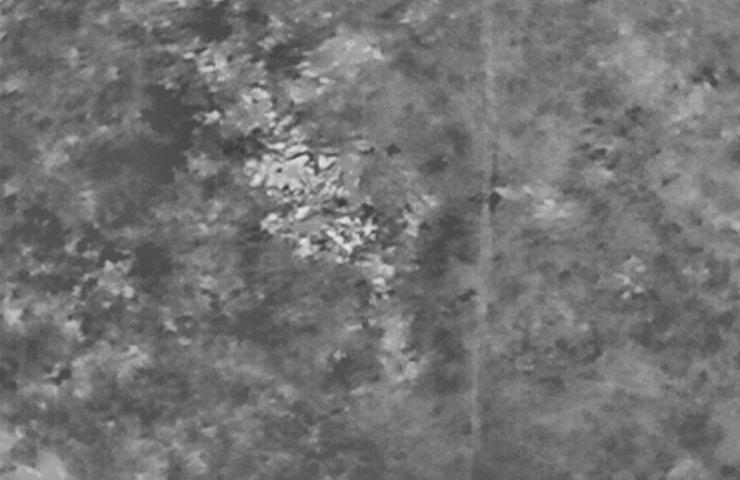landmines: (247, 142, 347, 206)
